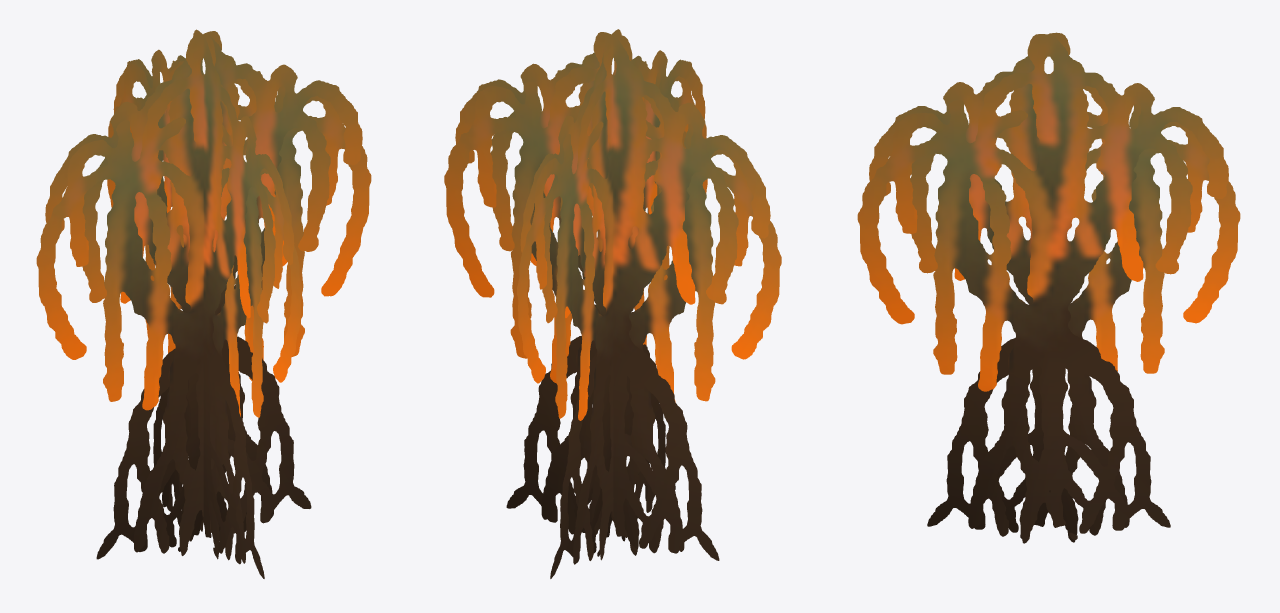
File: painted-weed-082.glb
3 views of the same model, side by side, from view 1: azimuth 30°, elevation 25°; view 2: azimuth 150°, elevation 25°; view 3: azimuth 270°, elevation 25° (orthographic).
Bounding box in the file's own units: 7.17 × 10.09 × 7.17.
1 material, 1 textured.
